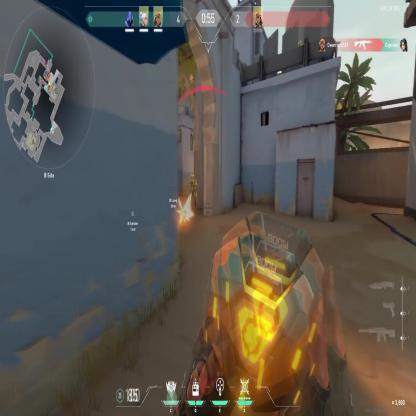enemy: (187, 174, 198, 213)
enemy_head: (192, 175, 195, 181)
